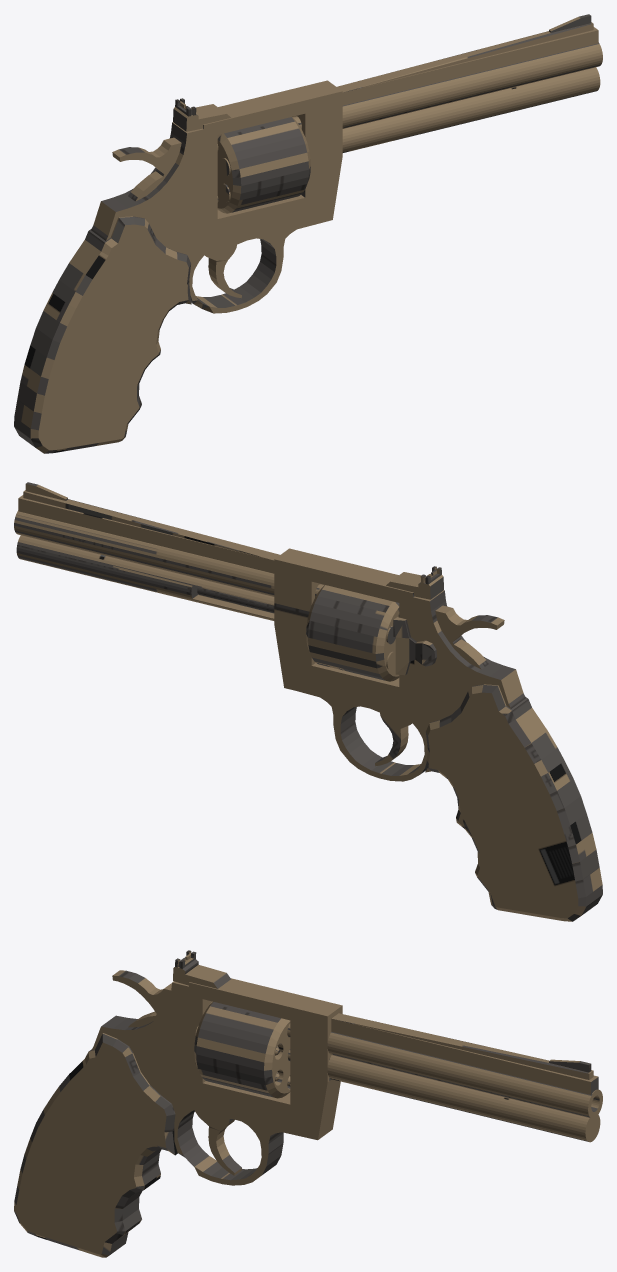
File: vein_miner.obj
3 renders of one model, top to bottom at view 1: azimuth 30°, elevation 25°; view 2: azimuth 150°, elevation 25°; view 3: azimuth 330°, elevation 25°, orthographic.
Parts seen in each view (by area): view 1: 柱体.001, 柱体.005, 栅格.003, 栅格.005_栅格.006; view 2: 柱体.001, 柱体.005, 柱体.004, 栅格.003, 栅格.009_栅格.010, 栅格.005_栅格.006; view 3: 柱体.001, 柱体.005, 栅格.003, 栅格.005_栅格.006, 柱体.004.
Part boxes in pixels (x1=…): 柱体.001: x1=14, y1=14, x2=602, y2=453; 柱体.005: x1=217, y1=117, x2=310, y2=213; 栅格.003: x1=112, y1=137, x2=181, y2=201; 栅格.005_栅格.006: x1=204, y1=244, x2=241, y2=298; 柱体.001: x1=14, y1=482, x2=602, y2=921; 柱体.005: x1=306, y1=585, x2=399, y2=681; 柱体.004: x1=197, y1=587, x2=309, y2=690; 栅格.003: x1=435, y1=605, x2=504, y2=669; 栅格.009_栅格.010: x1=393, y1=617, x2=436, y2=675; 栅格.005_栅格.006: x1=375, y1=712, x2=412, y2=766; 柱体.001: x1=14, y1=950, x2=602, y2=1257; 柱体.005: x1=194, y1=1001, x2=290, y2=1098; 栅格.003: x1=112, y1=970, x2=171, y2=1027; 栅格.005_栅格.006: x1=194, y1=1109, x2=241, y2=1175; 柱体.004: x1=287, y1=1049, x2=340, y2=1134.
Bounding box in the file's own units: 44.37 × 23.23 × 6.05.
